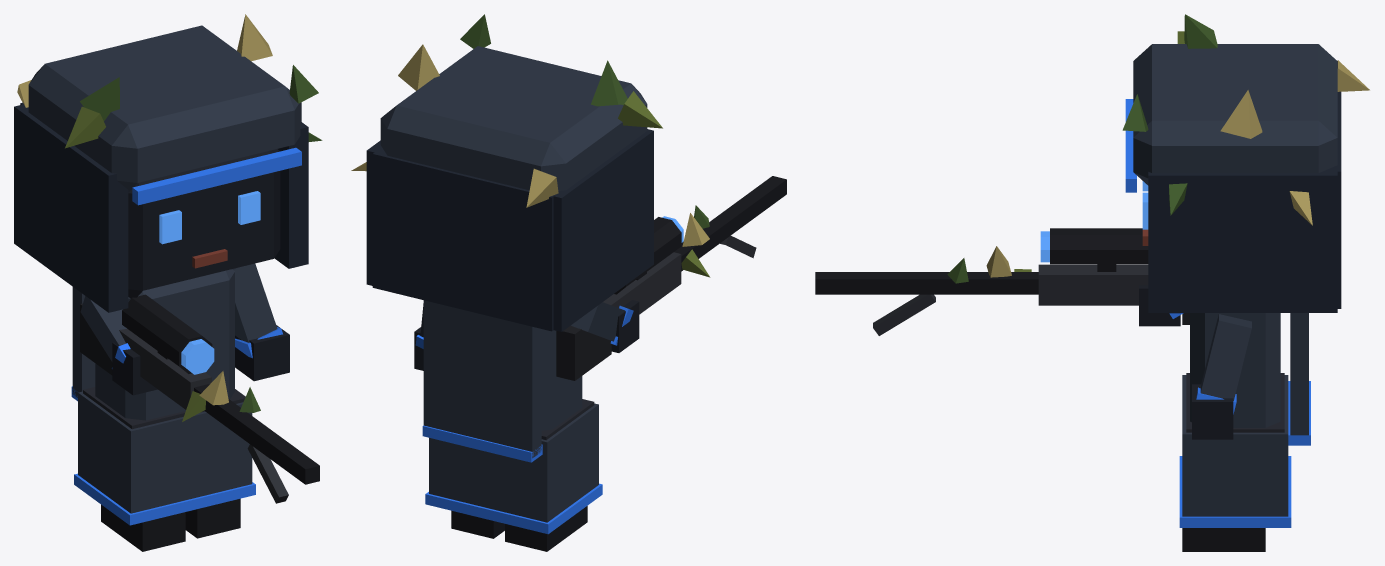
Rendered from sniper_super_rare.glb.
3 views of the same model, side by side, from view 1: azimuth 30°, elevation 25°; view 2: azimuth 150°, elevation 25°; view 3: azimuth 270°, elevation 25° (orthographic). The views are drawn at different scales.
Parts seen in each view (by area): view 1: sniper_super_rare_mesh; view 2: sniper_super_rare_mesh; view 3: sniper_super_rare_mesh.
Part boxes in pixels (bbox=[...]): sniper_super_rare_mesh: bbox=[14, 14, 322, 551]; sniper_super_rare_mesh: bbox=[351, 14, 786, 551]; sniper_super_rare_mesh: bbox=[815, 14, 1369, 551].
Bounding box in the file's own units: 0.721 × 1.3 × 1.36.
Materials: 2 (2 with a texture image).
